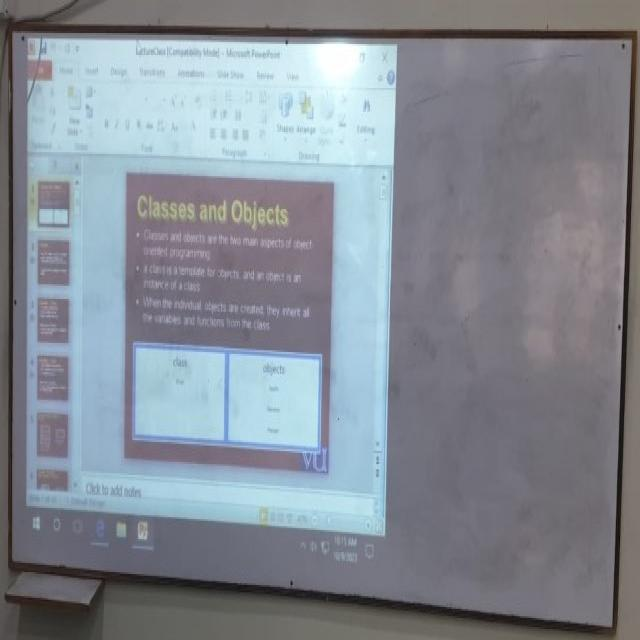Slide: (26, 38, 399, 564)
White-board: (7, 29, 635, 627)
